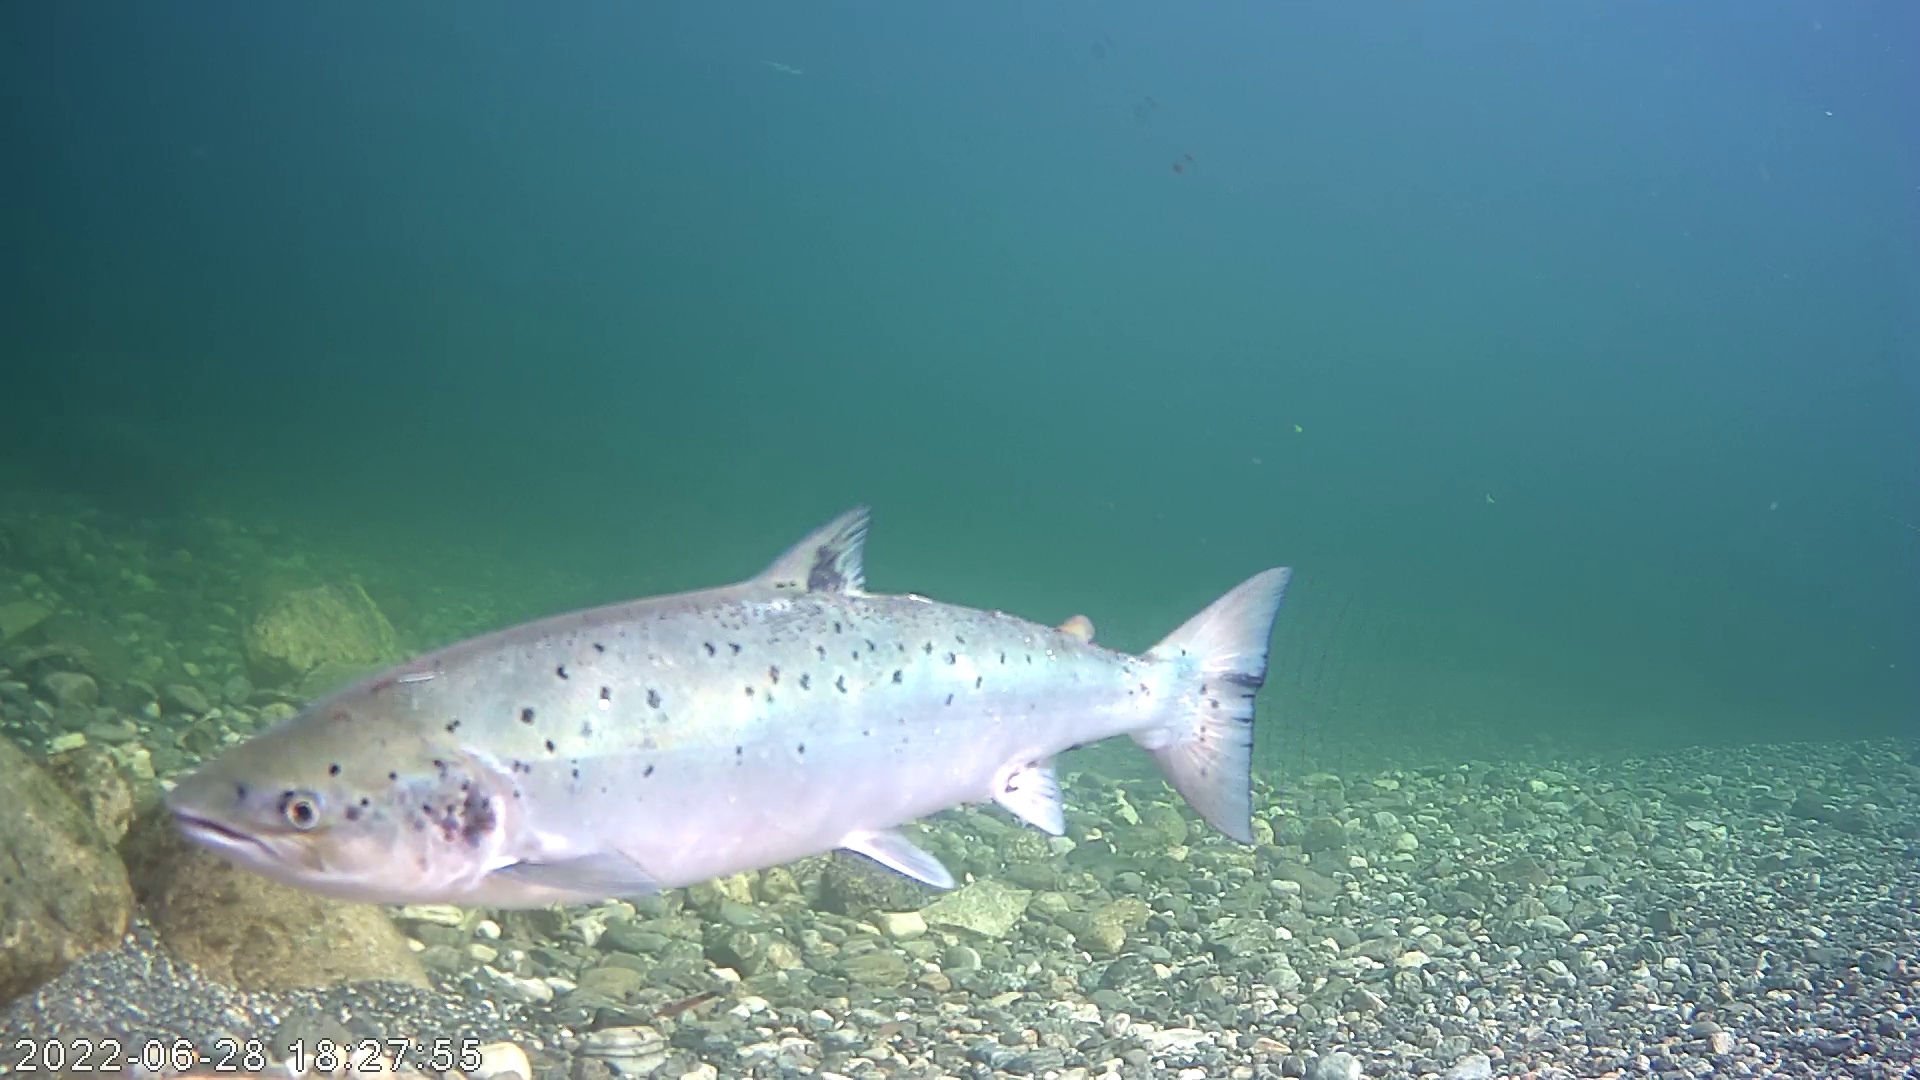salmon: (261, 411, 1311, 939)
